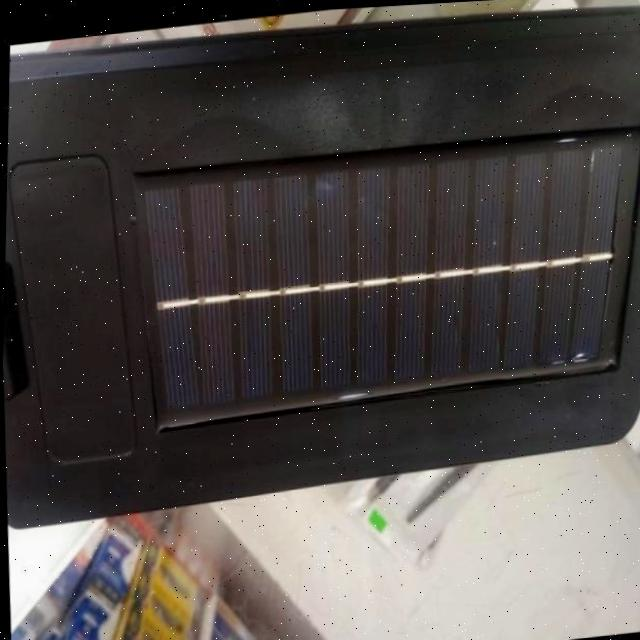Normal Solar Panel: (140, 140, 632, 417)
